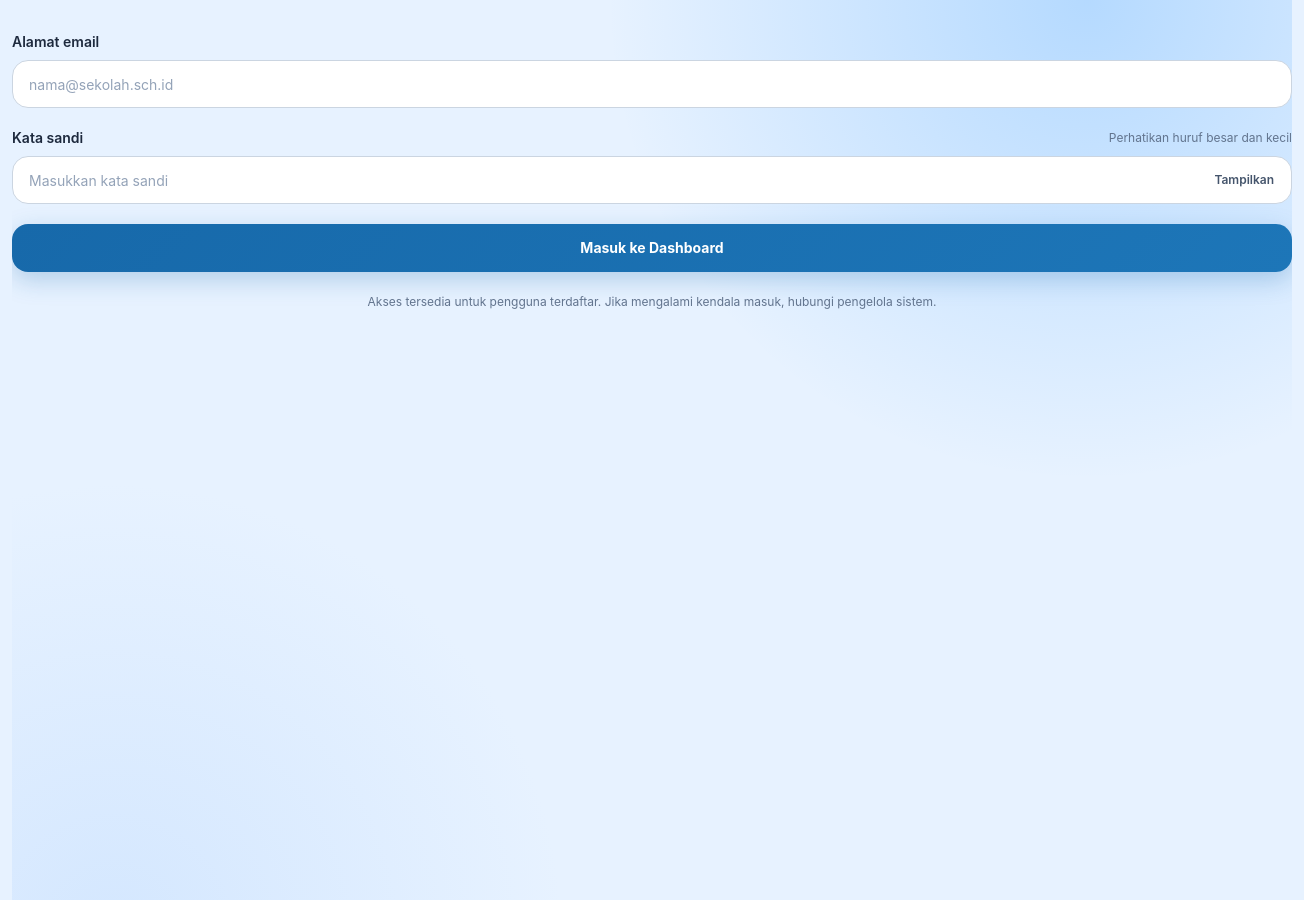
Test case: LoginForm › validates required fields and an invalid email format
Step 1. Click the button "Masuk ke Dashboard" → [652, 248], box [12, 224, 1292, 272]
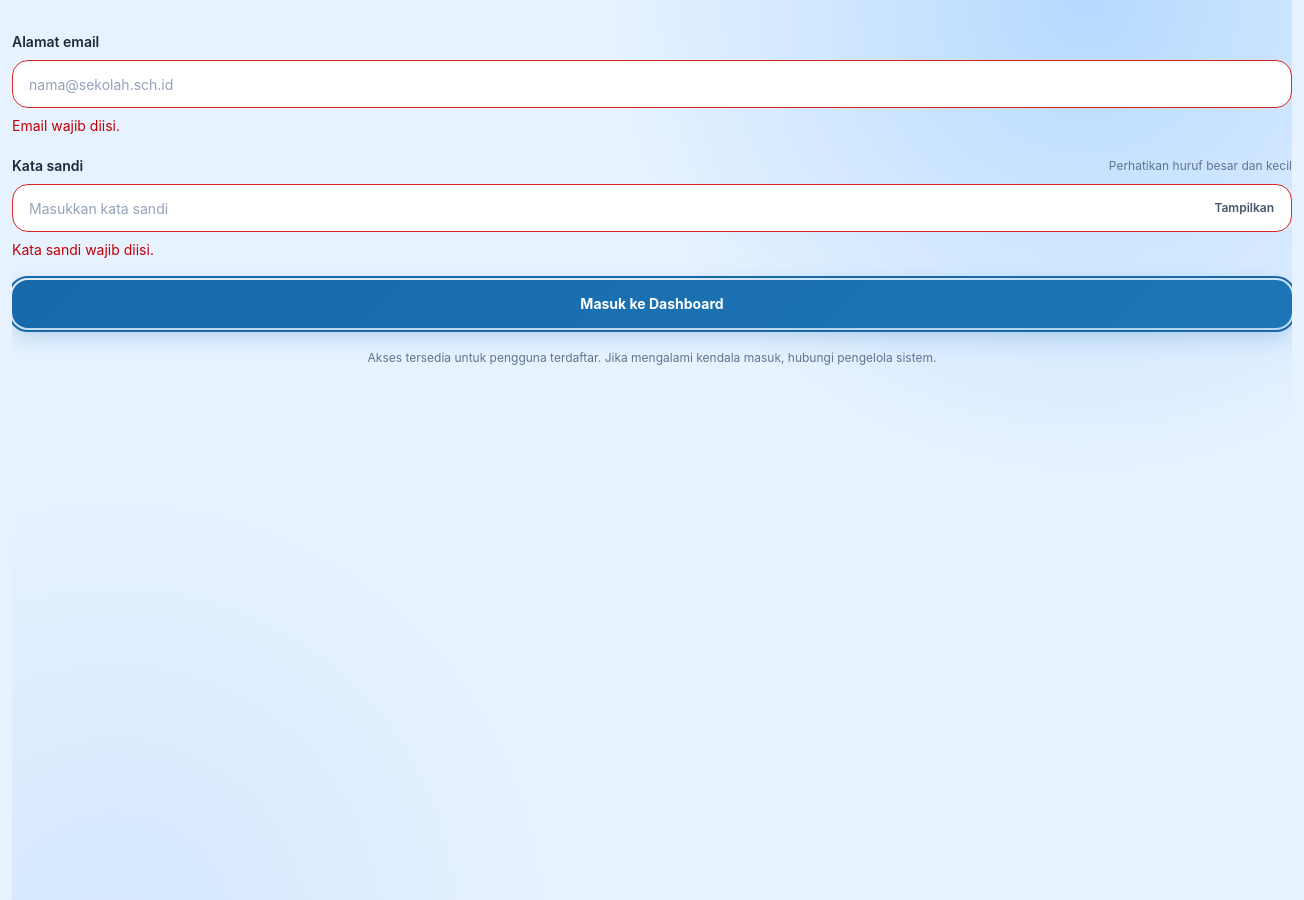
Result: the text "Email wajib diisi." is shown at [12, 117, 120, 134]
Result: the text "Kata sandi wajib diisi." is shown at [12, 241, 154, 258]
Step 2. Type "bukan-email" into the field labelled "Alamat email" → [652, 84], box [12, 60, 1292, 108]
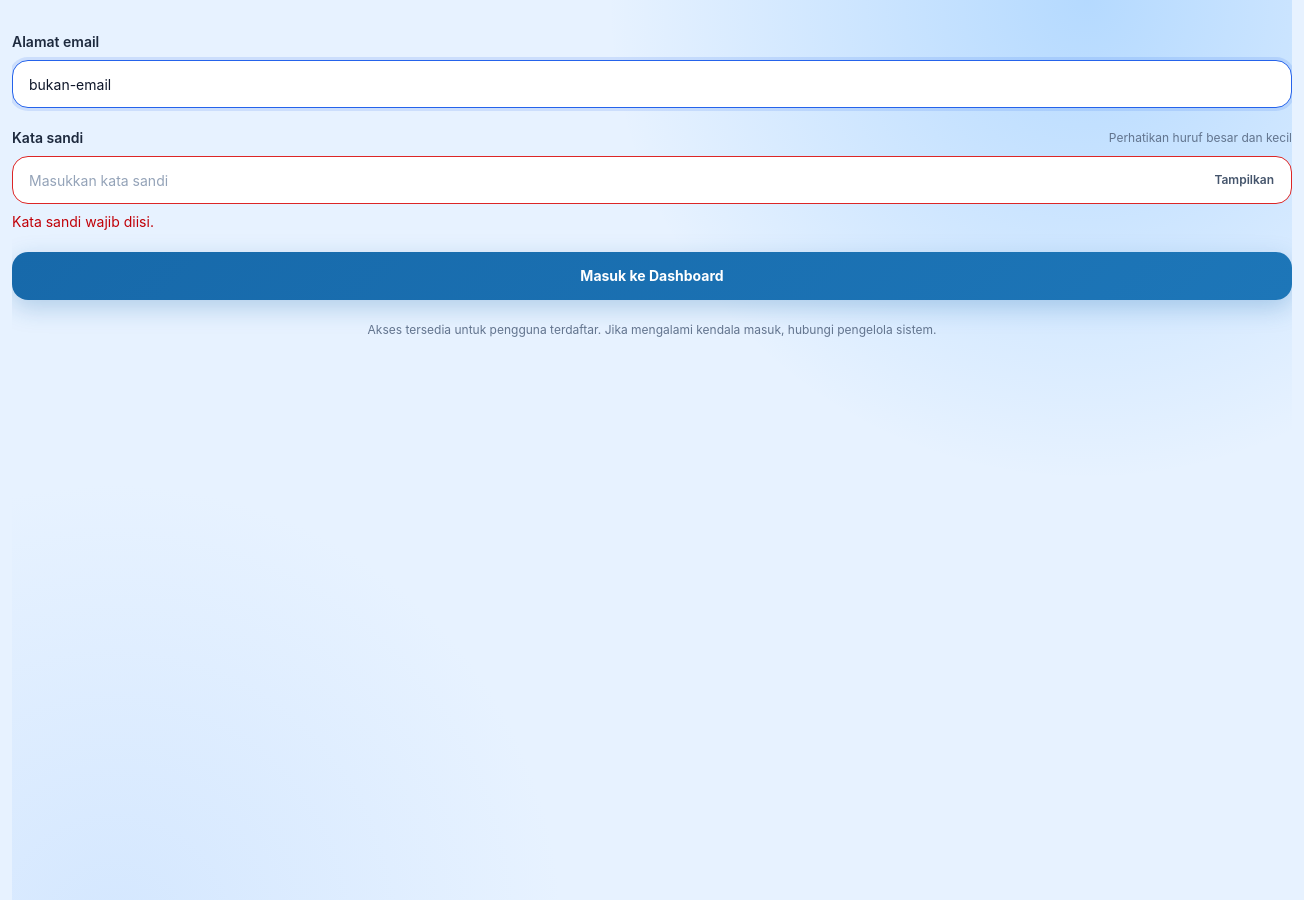
Step 3. Type "password" into the password field labelled "Kata sandi" → [652, 180], box [12, 156, 1292, 204]
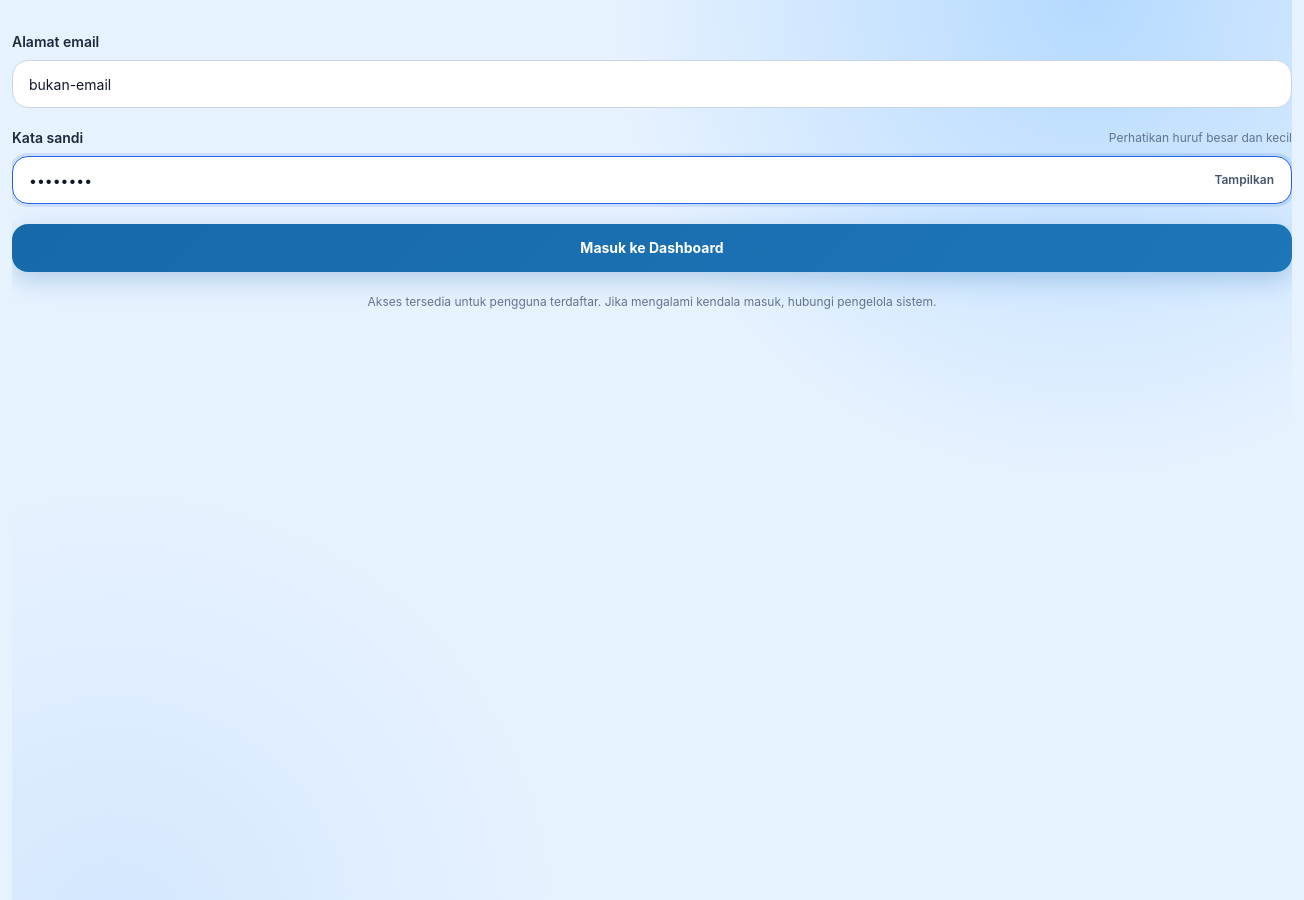
Step 4. Click the button "Masuk ke Dashboard" → [652, 248], box [12, 224, 1292, 272]
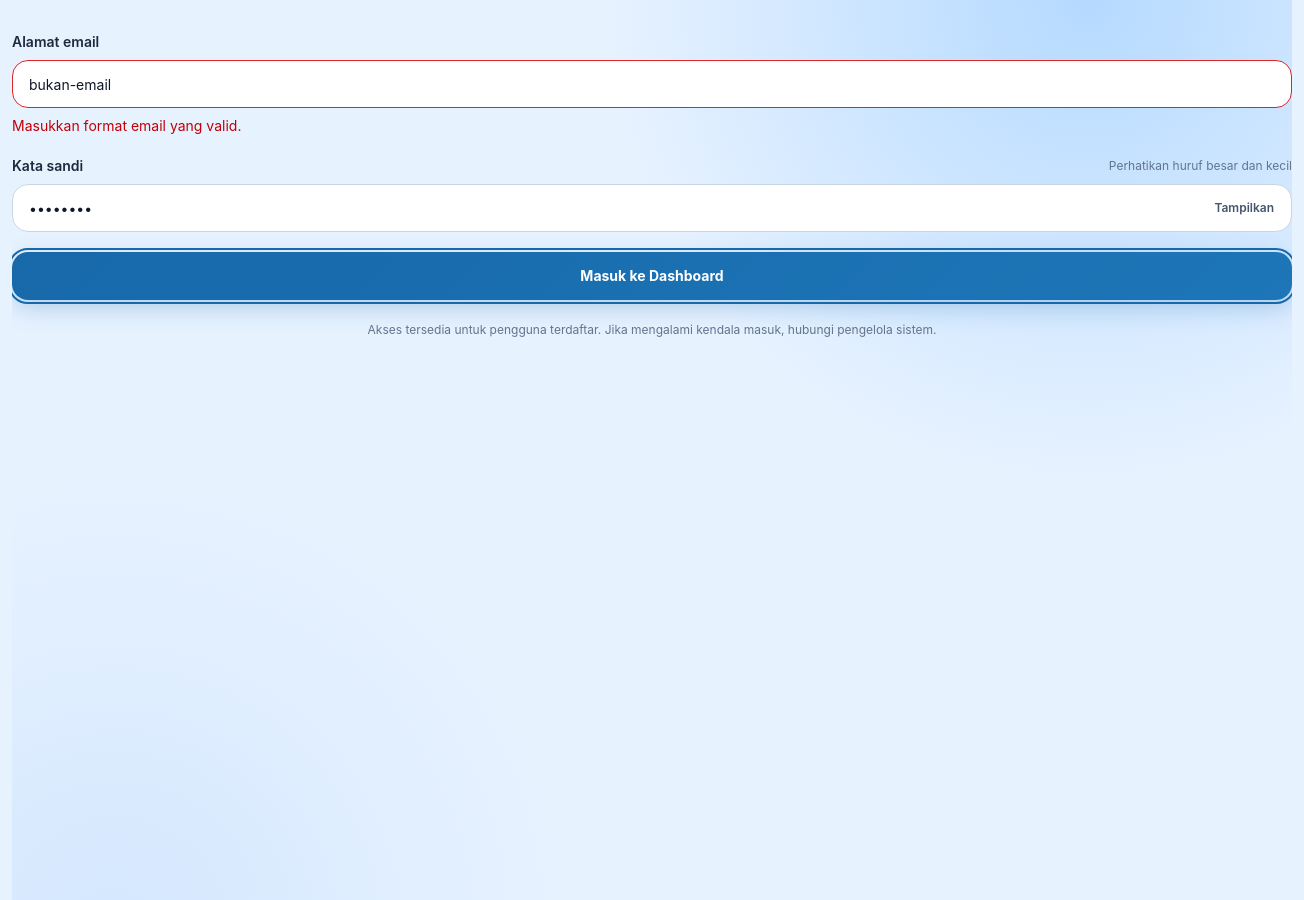
Result: the text "Masukkan format email yang valid." is shown at [12, 117, 241, 134]
